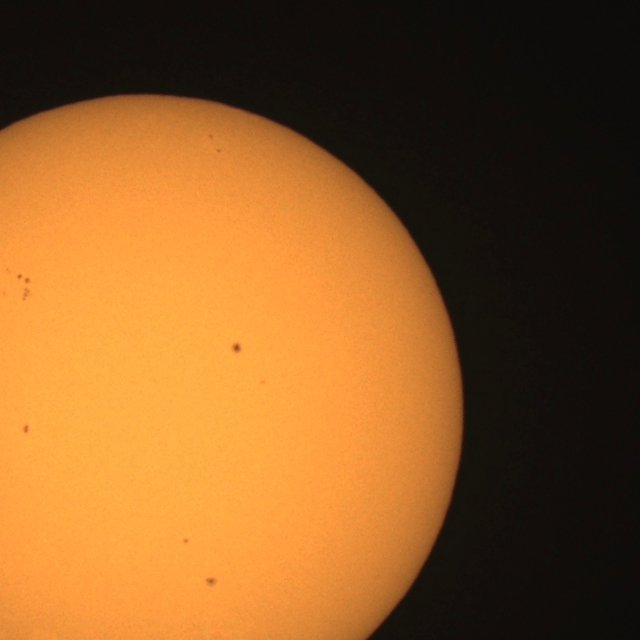sunspot: (20, 279, 33, 303), (16, 273, 31, 292), (230, 341, 243, 355), (204, 576, 218, 588), (21, 423, 30, 435), (0, 290, 7, 297), (182, 538, 189, 545), (260, 377, 266, 385), (208, 133, 214, 140), (5, 267, 11, 274), (216, 148, 221, 154)
